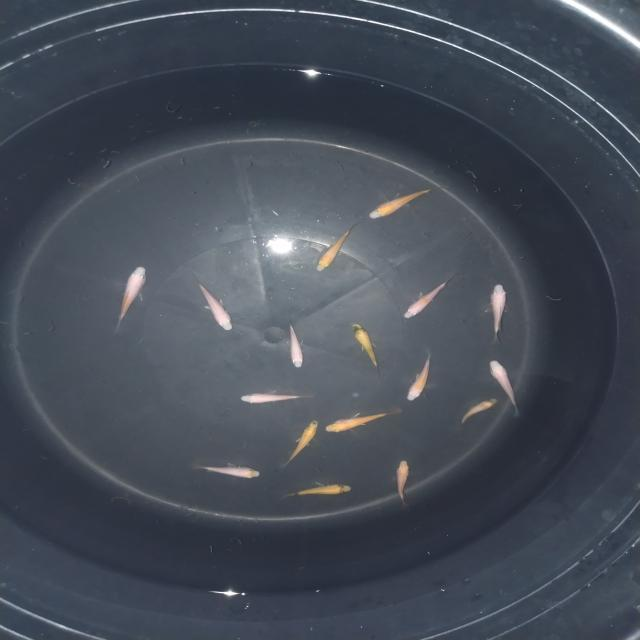nila: (401, 274, 461, 320), (368, 185, 443, 221), (113, 264, 150, 334), (192, 274, 234, 332), (312, 222, 360, 272), (322, 406, 399, 436), (487, 357, 523, 415), (348, 322, 383, 379), (282, 419, 320, 469), (404, 346, 436, 404), (486, 282, 512, 348), (455, 396, 500, 432), (278, 480, 354, 500), (188, 462, 264, 480), (391, 456, 415, 512), (236, 391, 312, 405), (286, 317, 306, 370)
